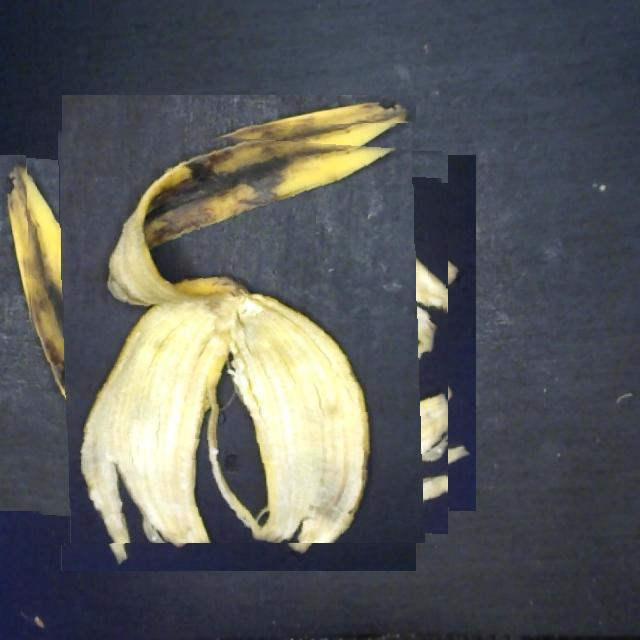biodegradable: (28, 124, 448, 543)
